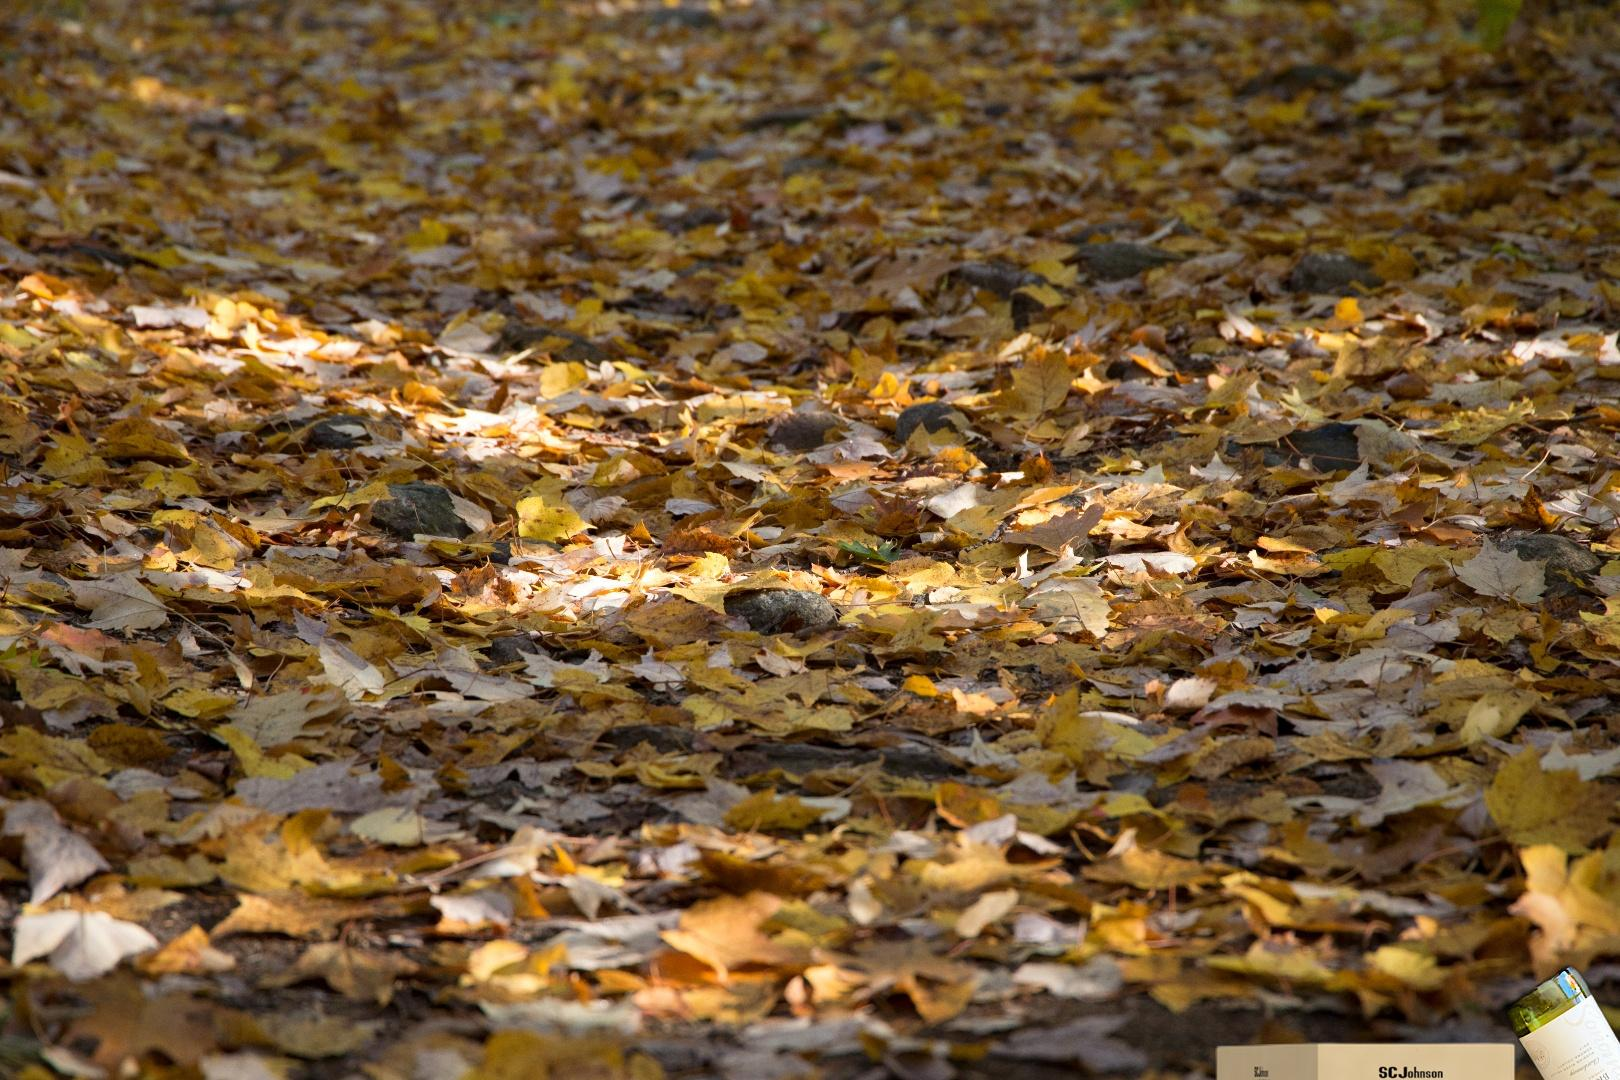glass: (1501, 959, 1620, 1080)
plastic-bottles: (1528, 1050, 1620, 1080)
trashbox-cardboard: (1211, 1038, 1521, 1080)
